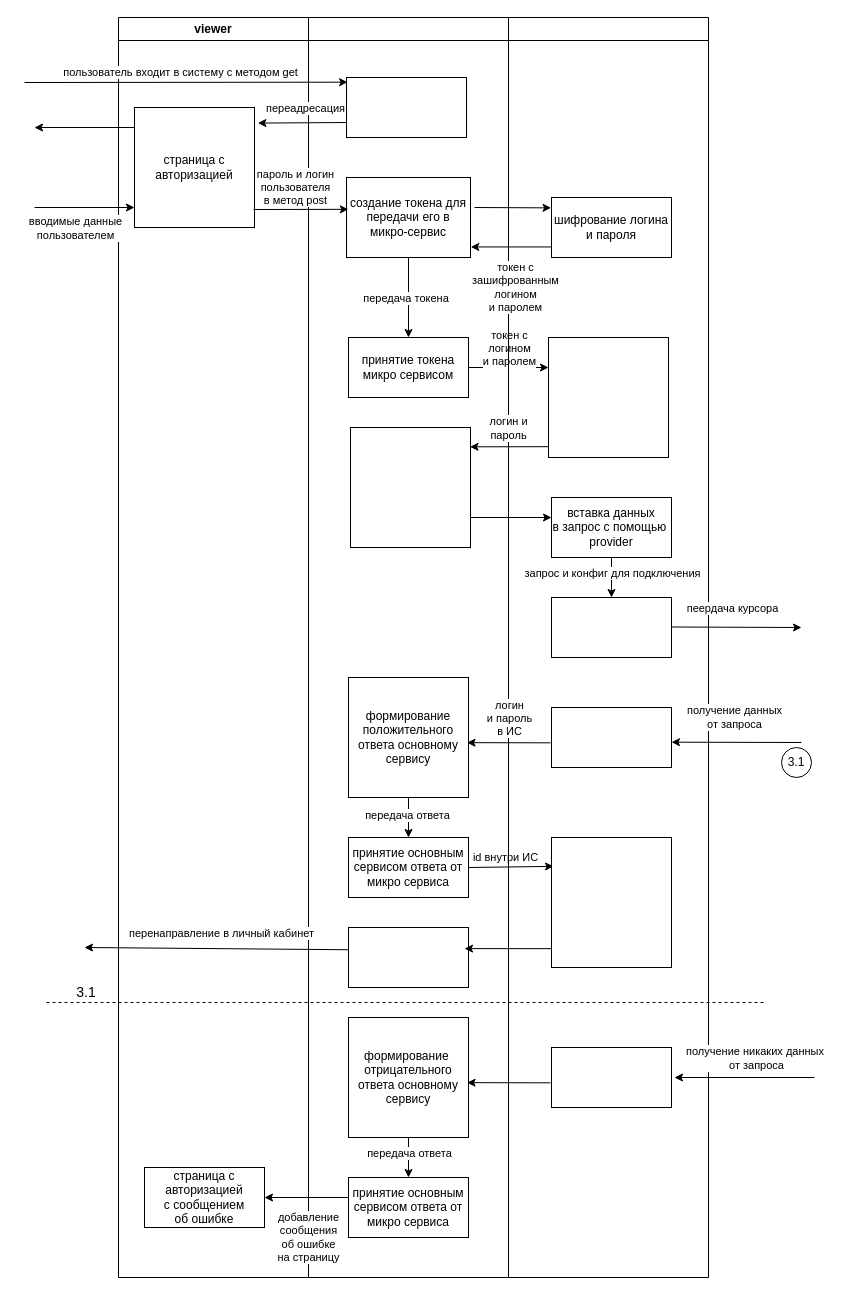
This 844x1295 diagram has some shape labels left out. Here are the shapes that lost their labels. From the top down, the box of each, then its label:
(548, 336, 668, 458): расшифровка токена
(350, 426, 470, 548): сохранение логина и пароля в переменную
(308, 16, 508, 1278): controller
(508, 16, 708, 1278): model
(550, 596, 672, 658): попытка подлючения к БД
(550, 836, 672, 968): создание сессии для внешнего пользователя
